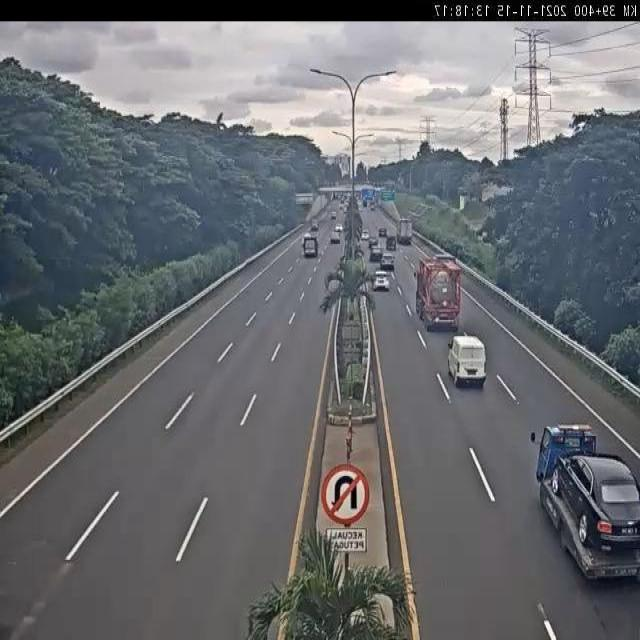Car: (560, 455, 640, 550), (373, 268, 389, 291), (381, 253, 394, 269), (370, 247, 382, 261), (387, 235, 397, 251), (369, 235, 378, 249), (330, 233, 341, 244), (361, 229, 369, 241), (379, 228, 387, 239), (312, 220, 320, 230), (334, 224, 342, 230)
Truck: (532, 422, 640, 584), (414, 256, 460, 330), (398, 218, 412, 242), (304, 236, 317, 256)
Van: (448, 333, 488, 386)
